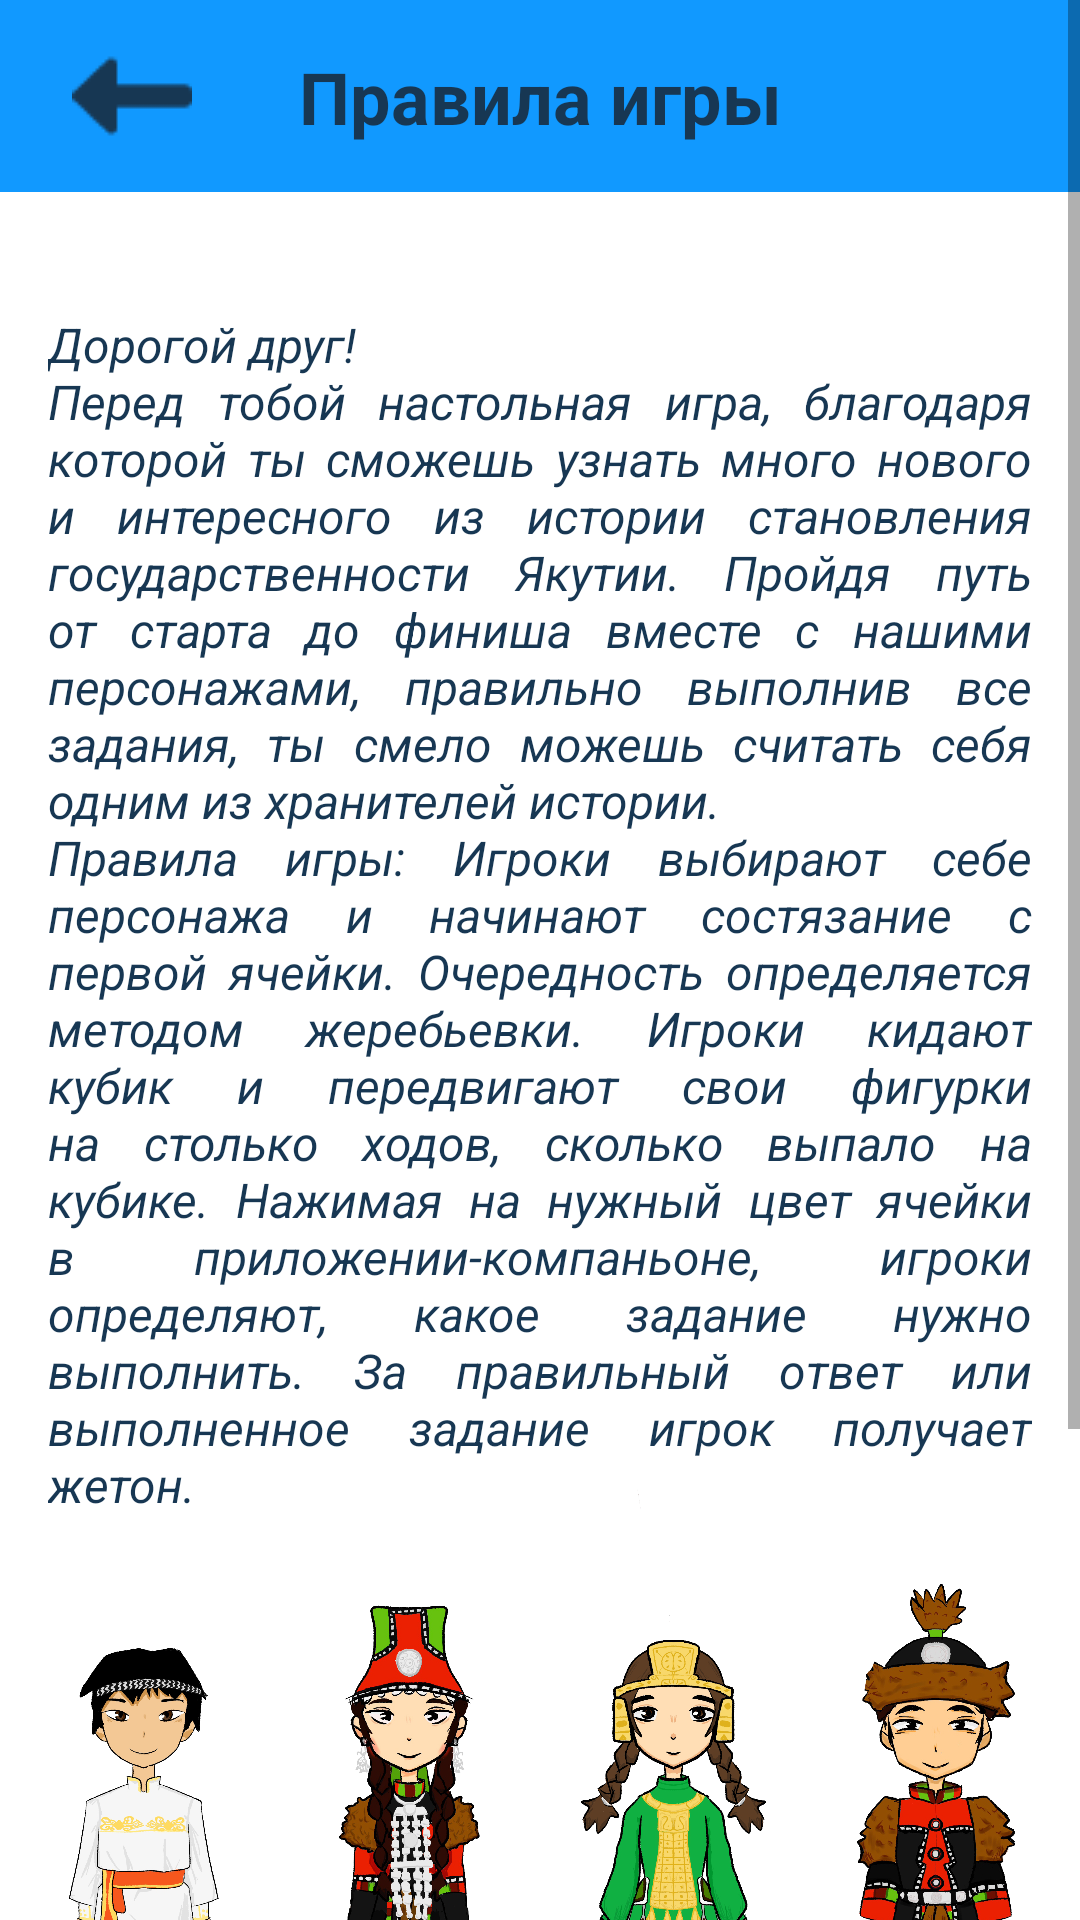

Where icons sit on this 1080*1920 app screen, as (x1, y1, x2, y2):
Кнопка назад: (72, 57, 192, 136)
